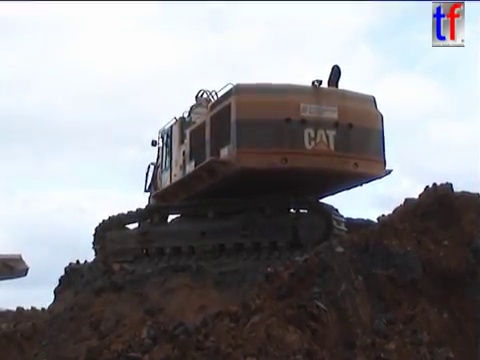excavator: (89, 61, 396, 267)
truck: (1, 251, 31, 284)
